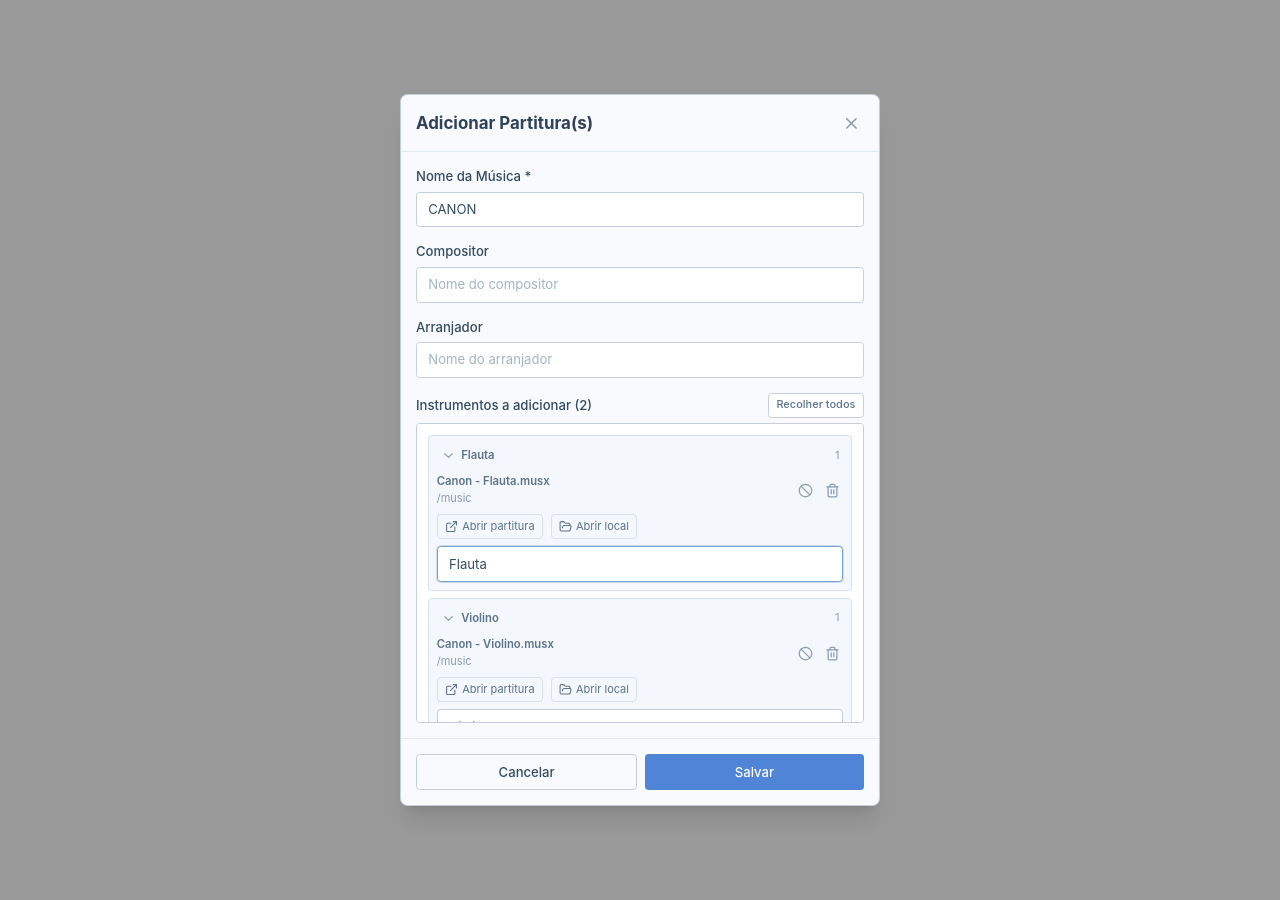
Test: AddFilesModal › should allow removing files
The image size is (1280, 900).
Expected: the text "Instrumentos a adicionar (2)" is shown, x1=416 y1=396 x2=592 y2=414
Click the button titled "Mover para lixeira" in the row of "Canon - Flauta.musx". click: (832, 490)
box: x1=821 y1=479 x2=843 y2=502
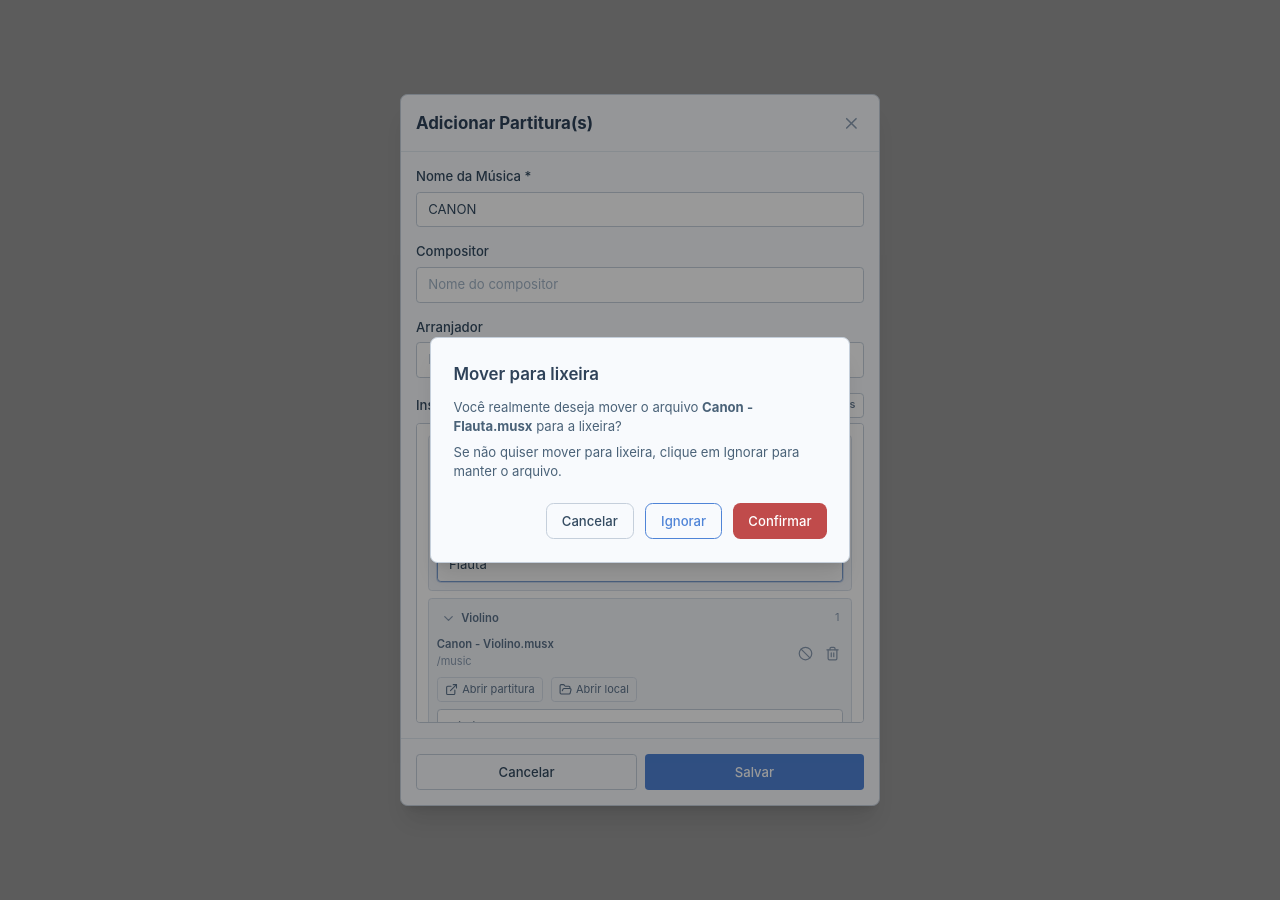
Now the heading "Mover para lixeira" is shown, box x1=454 y1=364 x2=599 y2=384
Click the button "Confirmar". click: (780, 521)
box: x1=733 y1=503 x2=826 y2=539
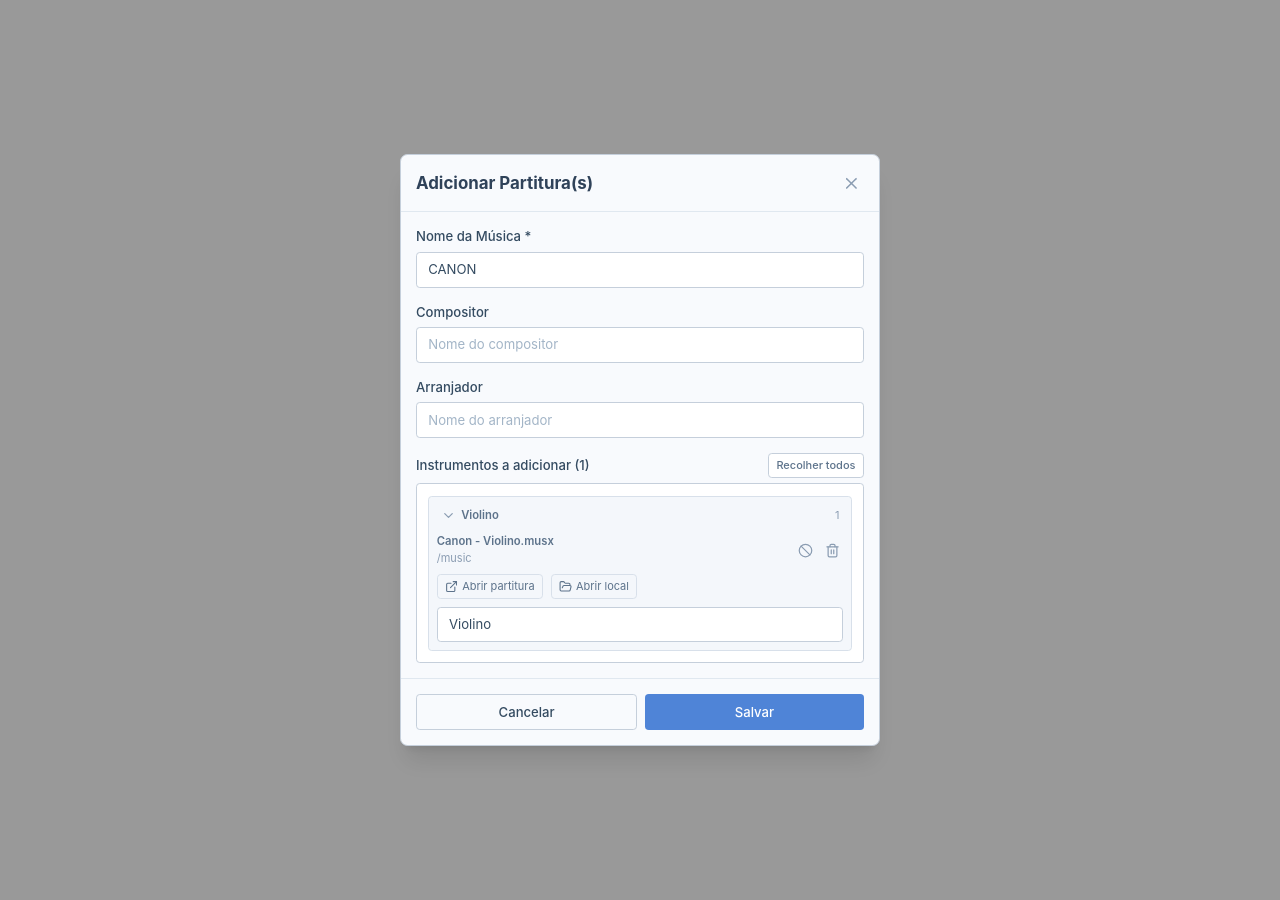
Now the text "Instrumentos a adicionar (1)" is shown, box x1=416 y1=456 x2=590 y2=475
